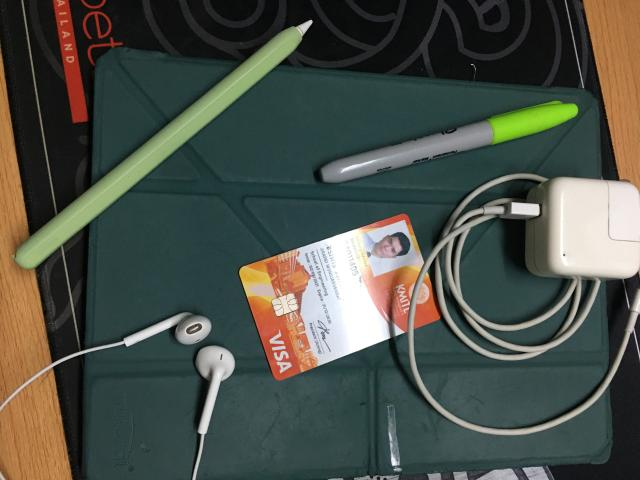Pen: (320, 101, 579, 182)
wire: (419, 174, 640, 360), (0, 312, 211, 411), (192, 345, 235, 479)
